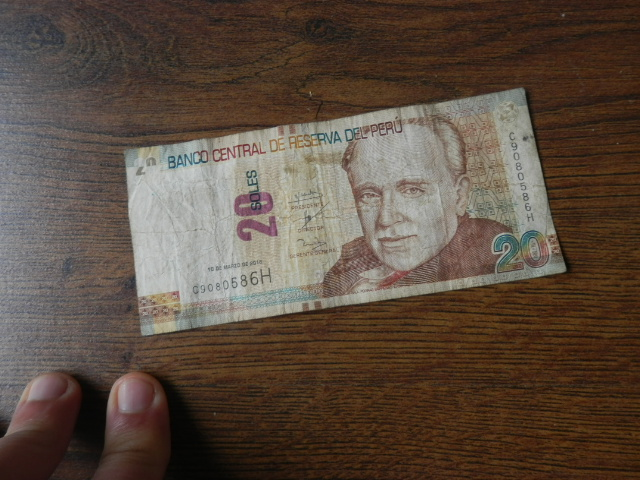B20: (117, 104, 566, 333)
